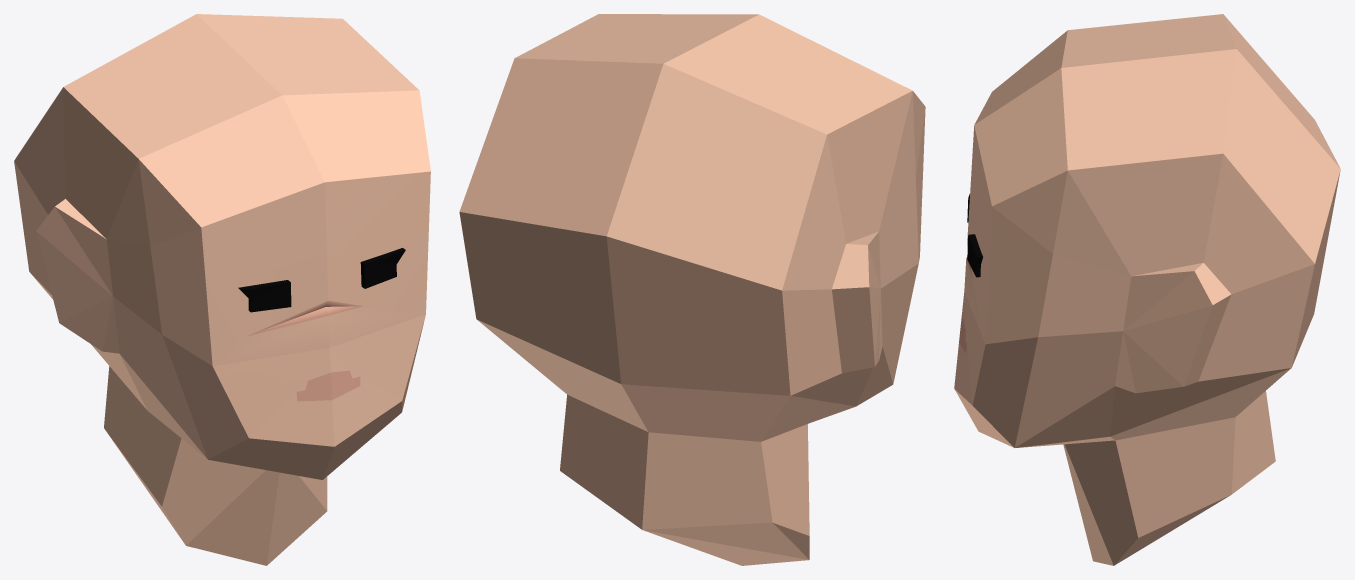
File: Chr_Head_Female_01_Static.fbx
The picture shows the model from 3 angles, left to right: view 1: azimuth 30°, elevation 25°; view 2: azimuth 150°, elevation 25°; view 3: azimuth 270°, elevation 25°; orthographic projection. The views are drawn at different scales.
Visible parts, largest first — view 1: Chr_Head_Female_01_Static; view 2: Chr_Head_Female_01_Static; view 3: Chr_Head_Female_01_Static.
Boxes of the visible parts, box(x1,y1,x2,y2) form: Chr_Head_Female_01_Static: box(14, 14, 430, 565); Chr_Head_Female_01_Static: box(459, 14, 925, 565); Chr_Head_Female_01_Static: box(954, 14, 1340, 565).
Size of the model in its own units: 0.2661 by 0.3693 by 0.2526.
